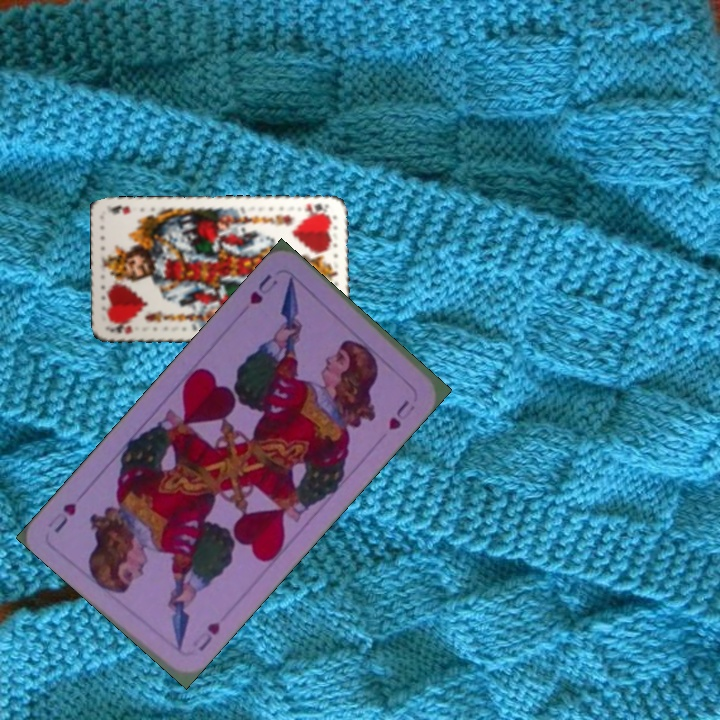HK: (301, 199, 332, 218), (106, 321, 135, 337)
HU: (245, 270, 280, 308), (187, 618, 223, 654)
